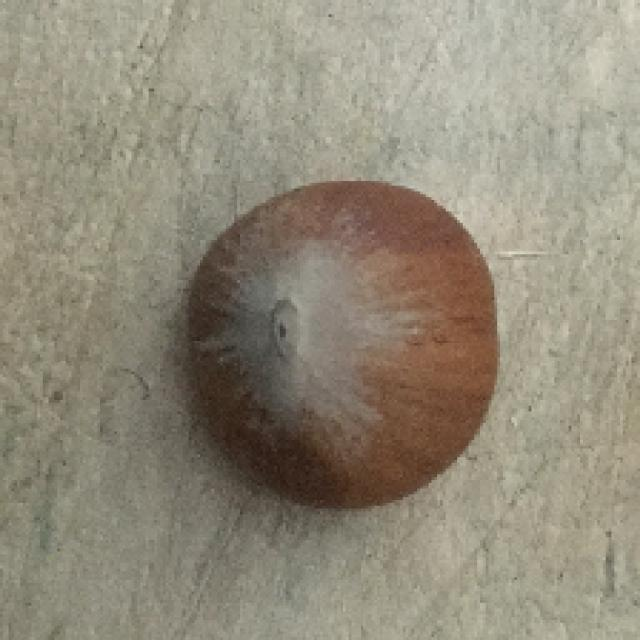qualityHazelnut: (182, 167, 508, 508)
